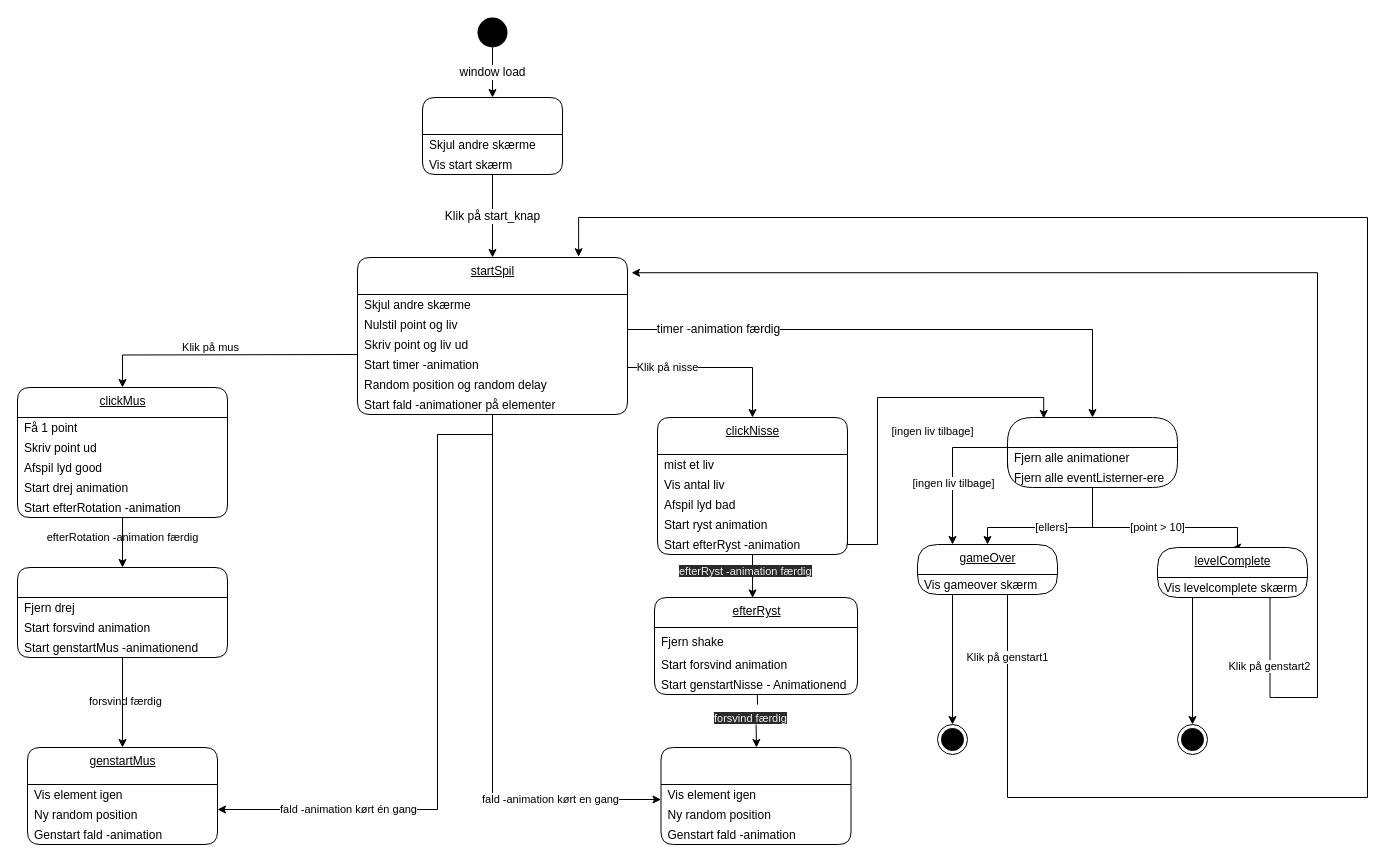
Some shapes in this 1393 by 862 pixel diagram are drawn without their labels. The box of each missing label's shape, as (x1, y1, x2, y2) in pixels:
efterRotation: (16, 566, 228, 658)
genstartNisse: (660, 746, 851, 844)
sidenVises: (422, 96, 562, 174)
stopSpillet: (1006, 416, 1178, 488)
